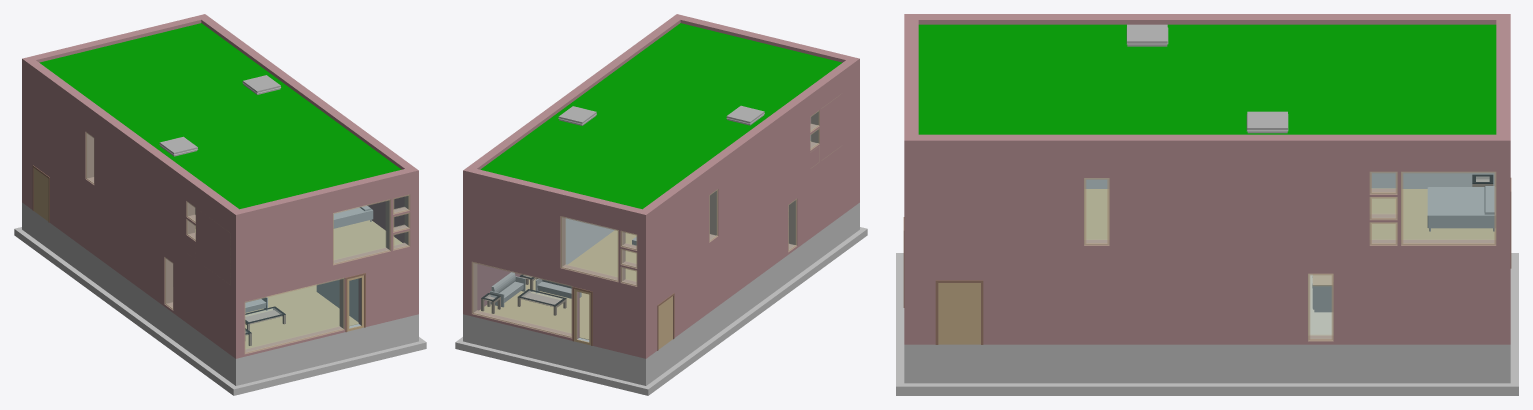
File: Duplex_A_20110505.gltf
3 renders of one model, left to right at view 1: azimuth 30°, elevation 25°; view 2: azimuth 150°, elevation 25°; view 3: azimuth 270°, elevation 25°, orthographic. The views are drawn at different scales.
Visible parts, largest first — view 1: 2eVYRXVQzFEuU6fL0DV0Hc, 1IxGHcZ5nBQw3beY1V8Wpc, 2vcZTdpkvBXQG8q4AsIHIl, 30Z4WXazPFG8bZe6K2OMHS, 3BU78sFjb5juC_PhuSXn$i, 2qZuHGS811ow8Cz2TRNS7A, 3Ixltp5qD9Z9sv9t11i81z, 2ppUG6dyP57uQgQmdhN$iD, 2cfWZFhR552Ro1ZZBuwd8k, 2pNSnkeI91yuqrIgKnOtC8, 21TDEpAnLEqP6dRo4vRe26, 2t5rrBiYf3sxkiJWothtIi (+14 smaller); view 2: 2eVYRXVQzFEuU6fL0DV0Hc, 1IxGHcZ5nBQw3beY1V8Wpc, 2vcZTdpkvBXQG8q4AsIHIl, 0EYpSRK5vEp8YG780RZUvF, 09dDEluEv5OR0RfGxNOWPg, 2qZuHGS811ow8Cz2TRNS7A, 0QATQW5oT19QpcjAxX4b$o, 2ppUG6dyP57uQgQmdhN$iD, 1w9nCoNb1AjOC9oTdJoHCS, 2t5rrBiYf3sxkiJWothtIi, 21TDEpAnLEqP6dRo4vRe26, 2opStmtjn6$AvlxE48O3Xq (+16 smaller); view 3: 2eVYRXVQzFEuU6fL0DV0Hc, 3KgUteyf90vAh0rhszaRaN, 1jWbF8OT5D2eaNvltBDGUQ, 2k0t9Qe6PDuPm2xX5mnM$G, 21TDEpAnLEqP6dRo4vRe26, 28l0aZb114buy0q5Y9jxyu, 2ppUG6dyP57uQgQmdhN$iD, 3tVtV3elb7ggSyRX$faK6o, 0AGjP7$ZH02BVVrYiR5TDJ, 2gvV9JjYn65RV9gkBkiGBX, 1w9nCoNb1AjOC9oTdJoHCS, 3HlZyqCFPEOONMl76wfKUq (+13 smaller).
Boxes of the visible parts, <box> form: 2eVYRXVQzFEuU6fL0DV0Hc: <box>39,23,401,209</box>; 1IxGHcZ5nBQw3beY1V8Wpc: <box>22,72,235,291</box>; 2vcZTdpkvBXQG8q4AsIHIl: <box>27,139,230,354</box>; 30Z4WXazPFG8bZe6K2OMHS: <box>236,183,418,291</box>; 3BU78sFjb5juC_PhuSXn$i: <box>231,249,410,358</box>; 2qZuHGS811ow8Cz2TRNS7A: <box>27,206,230,382</box>; 3Ixltp5qD9Z9sv9t11i81z: <box>231,316,410,385</box>; 2ppUG6dyP57uQgQmdhN$iD: <box>27,60,238,224</box>; 2cfWZFhR552Ro1ZZBuwd8k: <box>245,285,358,348</box>; 2pNSnkeI91yuqrIgKnOtC8: <box>231,169,410,228</box>; 21TDEpAnLEqP6dRo4vRe26: <box>201,17,418,185</box>; 2t5rrBiYf3sxkiJWothtIi: <box>14,227,227,387</box>; 2eVYRXVQzFEuU6fL0DV0Hc: <box>480,23,842,209</box>; 1IxGHcZ5nBQw3beY1V8Wpc: <box>646,72,859,291</box>; 2vcZTdpkvBXQG8q4AsIHIl: <box>651,139,854,354</box>; 0EYpSRK5vEp8YG780RZUvF: <box>463,183,645,291</box>; 09dDEluEv5OR0RfGxNOWPg: <box>463,247,650,358</box>; 2qZuHGS811ow8Cz2TRNS7A: <box>651,206,854,382</box>; 0QATQW5oT19QpcjAxX4b$o: <box>463,314,650,385</box>; 2ppUG6dyP57uQgQmdhN$iD: <box>643,60,854,224</box>; 1w9nCoNb1AjOC9oTdJoHCS: <box>463,167,650,228</box>; 2t5rrBiYf3sxkiJWothtIi: <box>629,235,856,395</box>; 21TDEpAnLEqP6dRo4vRe26: <box>468,14,684,169</box>; 2opStmtjn6$AvlxE48O3Xq: <box>479,279,589,339</box>; 2eVYRXVQzFEuU6fL0DV0Hc: <box>918,24,1496,134</box>; 3KgUteyf90vAh0rhszaRaN: <box>904,249,1496,344</box>; 1jWbF8OT5D2eaNvltBDGUQ: <box>904,159,1510,248</box>; 2k0t9Qe6PDuPm2xX5mnM$G: <box>904,344,1496,383</box>; 21TDEpAnLEqP6dRo4vRe26: <box>904,134,1496,159</box>; 28l0aZb114buy0q5Y9jxyu: <box>896,373,1518,395</box>; 2ppUG6dyP57uQgQmdhN$iD: <box>918,14,1496,24</box>; 3tVtV3elb7ggSyRX$faK6o: <box>1370,189,1495,239</box>; 0AGjP7$ZH02BVVrYiR5TDJ: <box>1427,186,1495,231</box>; 2gvV9JjYn65RV9gkBkiGBX: <box>938,283,980,344</box>; 1w9nCoNb1AjOC9oTdJoHCS: <box>1496,14,1510,159</box>; 3HlZyqCFPEOONMl76wfKUq: <box>1084,172,1495,188</box>.
Size of the model in its own units: 9.28 by 8.18 by 18.28.
